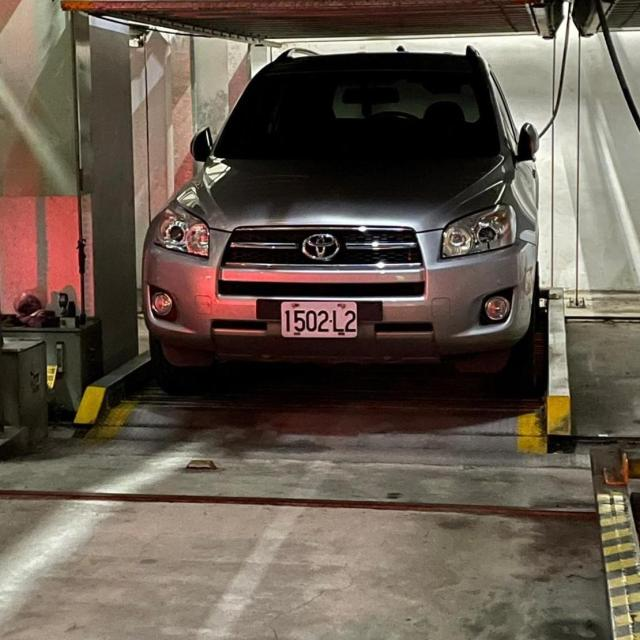W: (277, 296, 362, 344)
